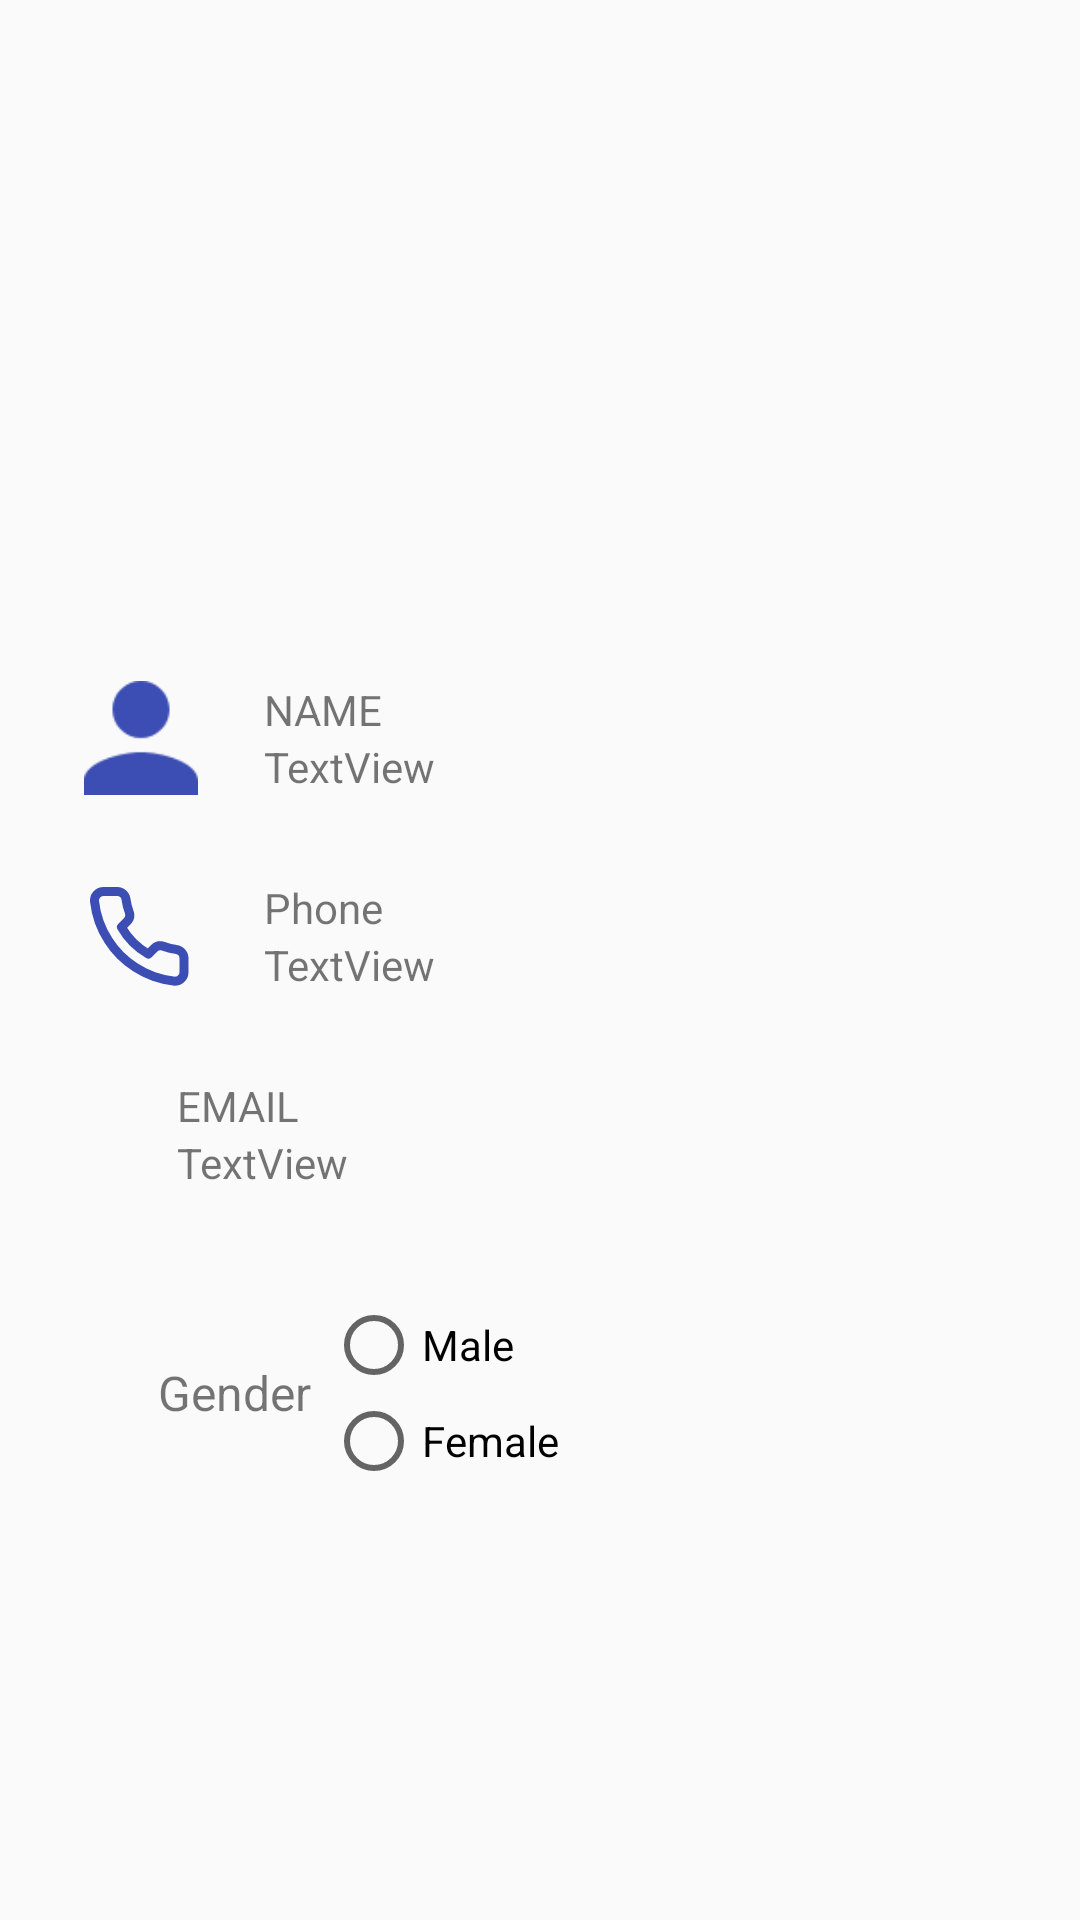

Screen size 1080px x 1920px. Icon name, then its box in pixels as rect(x1, y1, x2, y2):
person: rect(84, 681, 198, 795)
